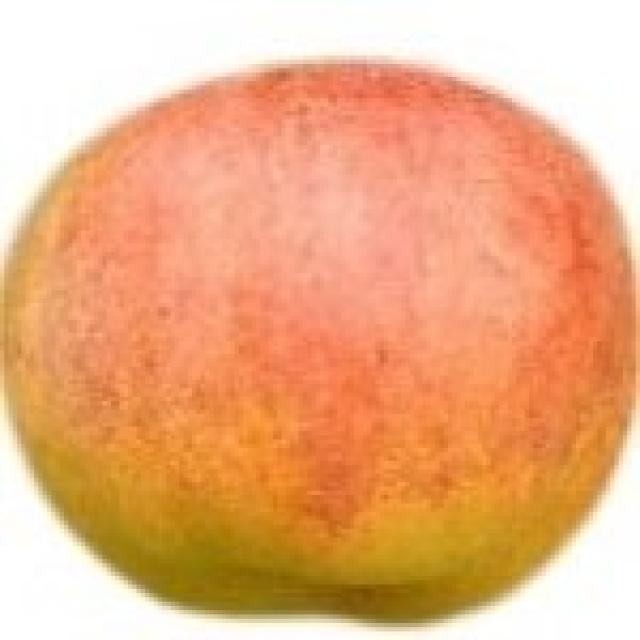75-_ripeness: (0, 56, 640, 626)
